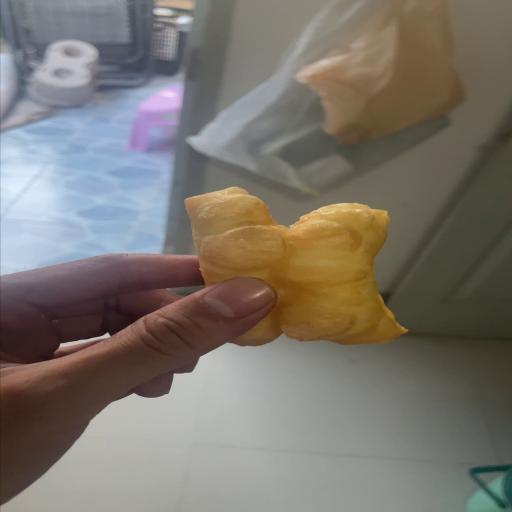street_golden_good: (188, 187, 404, 345)
